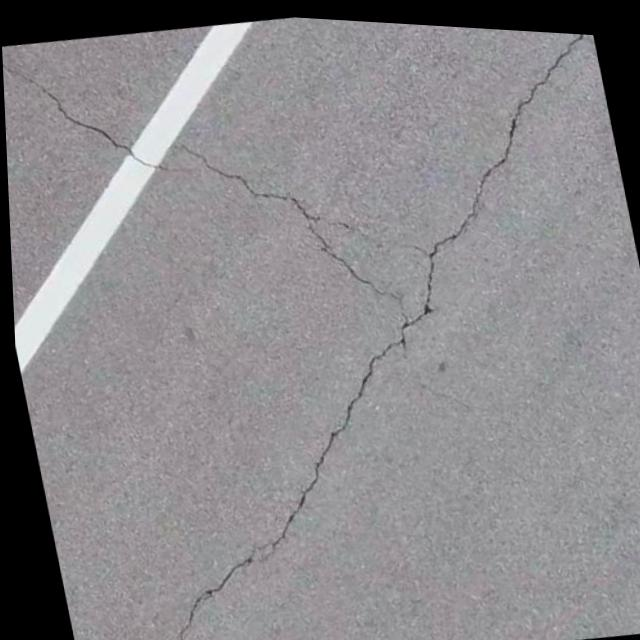Crack: (120, 6, 627, 520), (101, 510, 314, 640), (1, 40, 117, 164)
